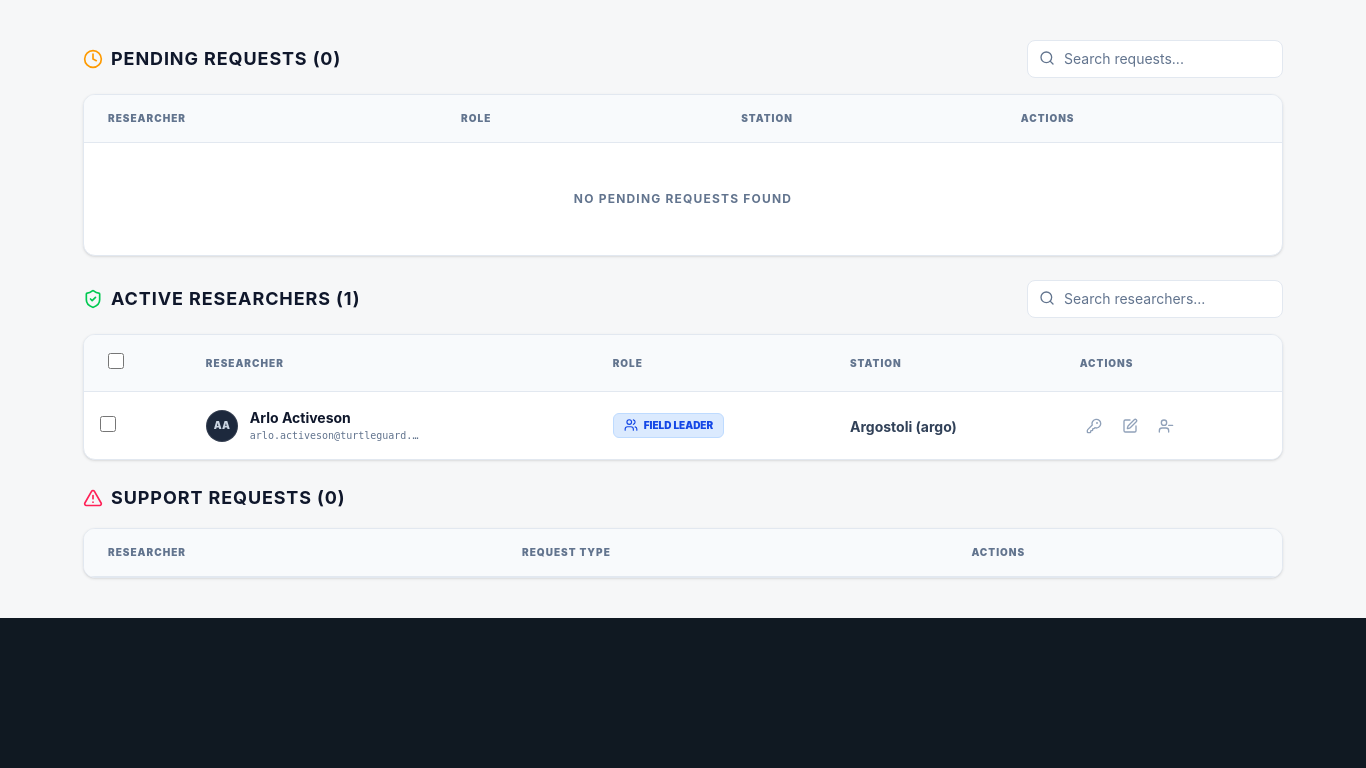
UserManagement accessibility labels (QA-074) › gives the Edit Researcher Details modal close button an accessible name
The width and height of the screenshot is (1366, 768).
Click the button titled "edit": (1130, 426) [1116, 412, 1144, 440]
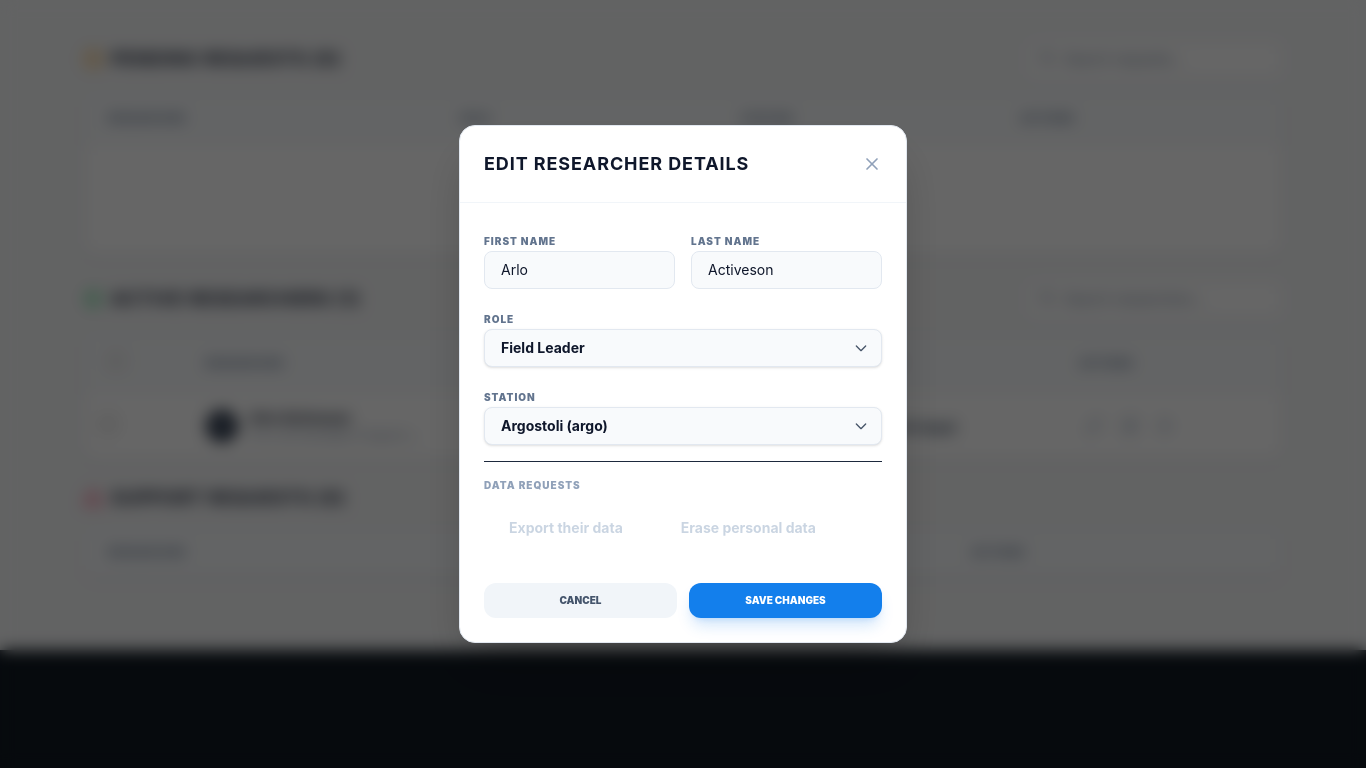
Result: the button named "close" is shown at [862, 154, 882, 174]
